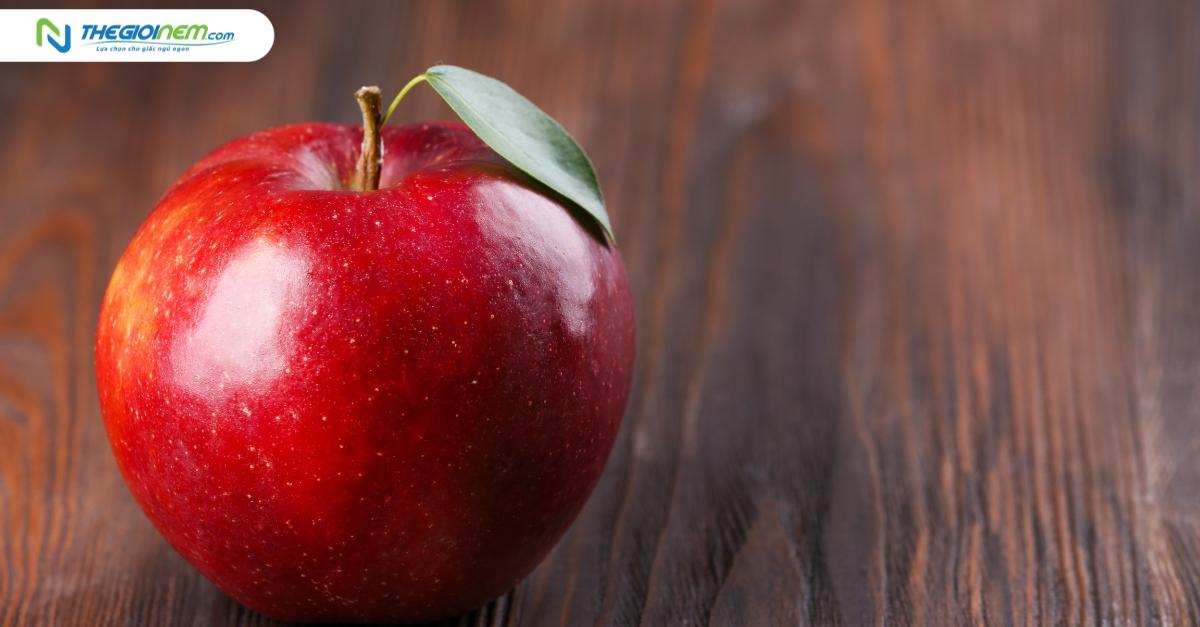apples: (61, 55, 752, 599)
